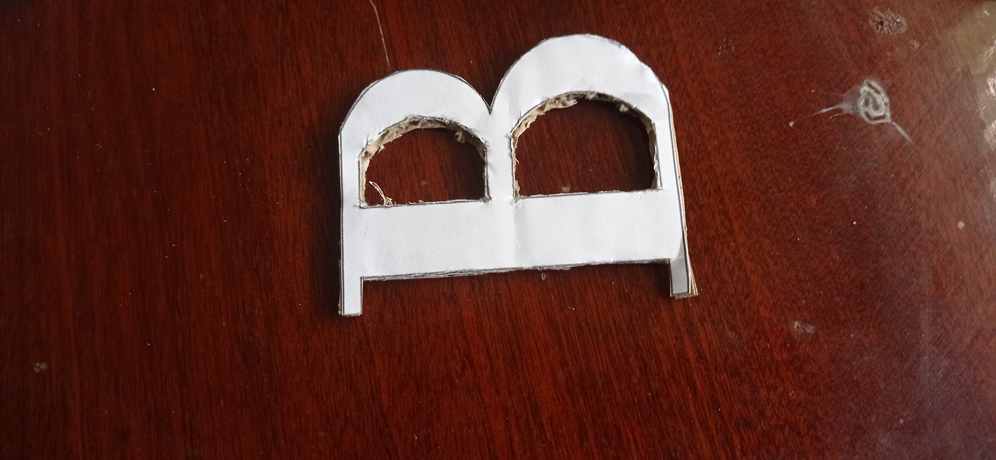v: (336, 31, 700, 320)
